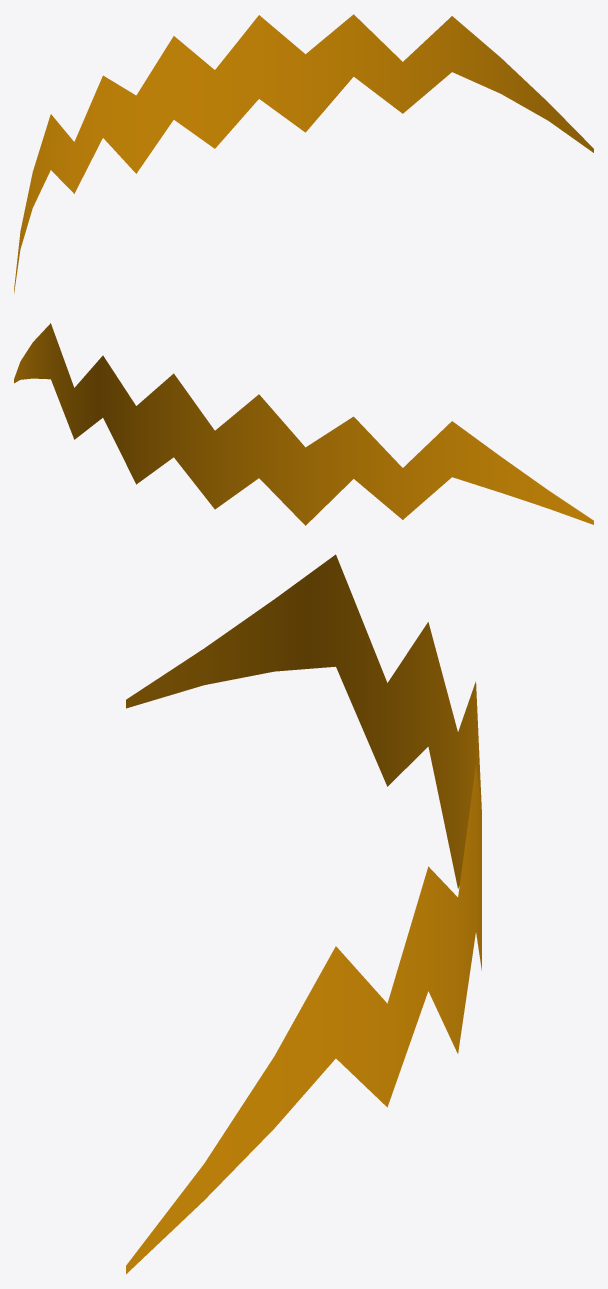
Rendered from Mouth_Mother_Open02.fbx.
3 renders of one model, top to bottom at view 1: azimuth 30°, elevation 25°; view 2: azimuth 150°, elevation 25°; view 3: azimuth 270°, elevation 25°, orthographic. The views are drawn at different scales.
Parts seen in each view (by area): view 1: Cylinder; view 2: Cylinder; view 3: Cylinder.
Boxes of the visible parts, box(x1,y1,x2,y2) form: Cylinder: box(14, 14, 593, 293); Cylinder: box(14, 323, 593, 525); Cylinder: box(126, 554, 481, 1273).
Bounding box in the file's own units: 16.09 × 3.57 × 4.28.
Materials: 1 (1 with a texture image).
